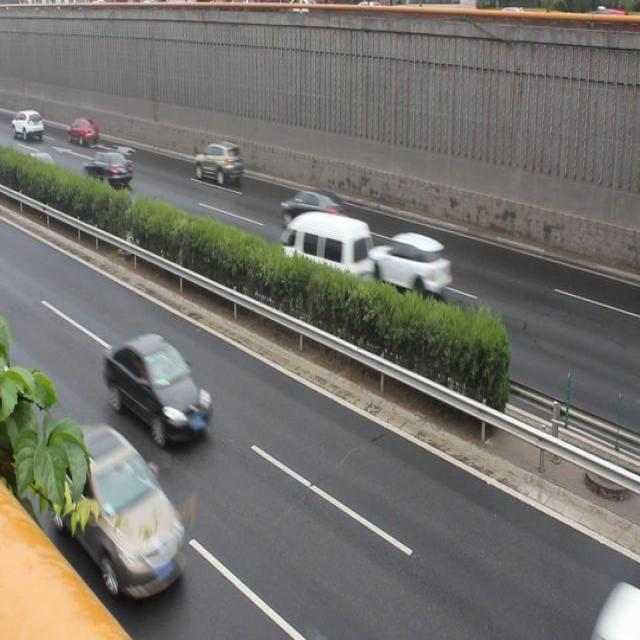car: (50, 422, 189, 593), (105, 330, 211, 442), (372, 224, 452, 302), (279, 188, 344, 232), (190, 138, 246, 188), (82, 145, 134, 192), (65, 110, 100, 151), (25, 148, 61, 184)
truck: (276, 211, 370, 296)
